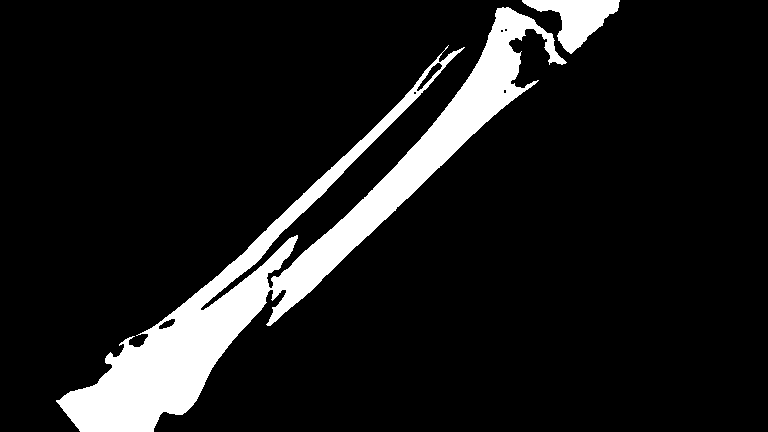fracture: (228, 198, 340, 379)
